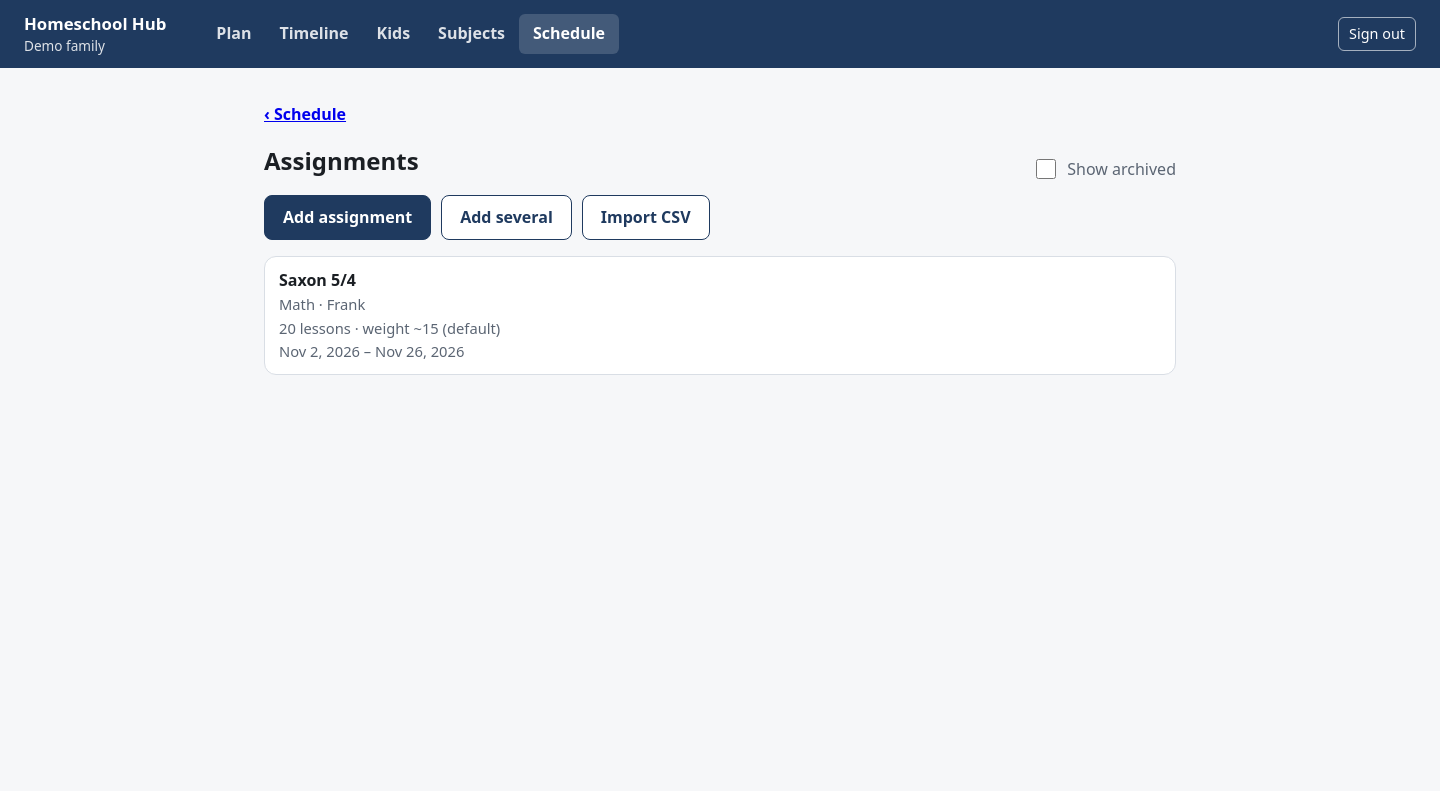
Test: Add several assignments (S3a-04) › starts with 3 empty rows and only the essentials
The image size is (1440, 791).
Expected: the list named "Assignments" is shown, [264,256,1176,375]
Click the button "Add several".
click(506, 217)  # box [441,195,572,240]
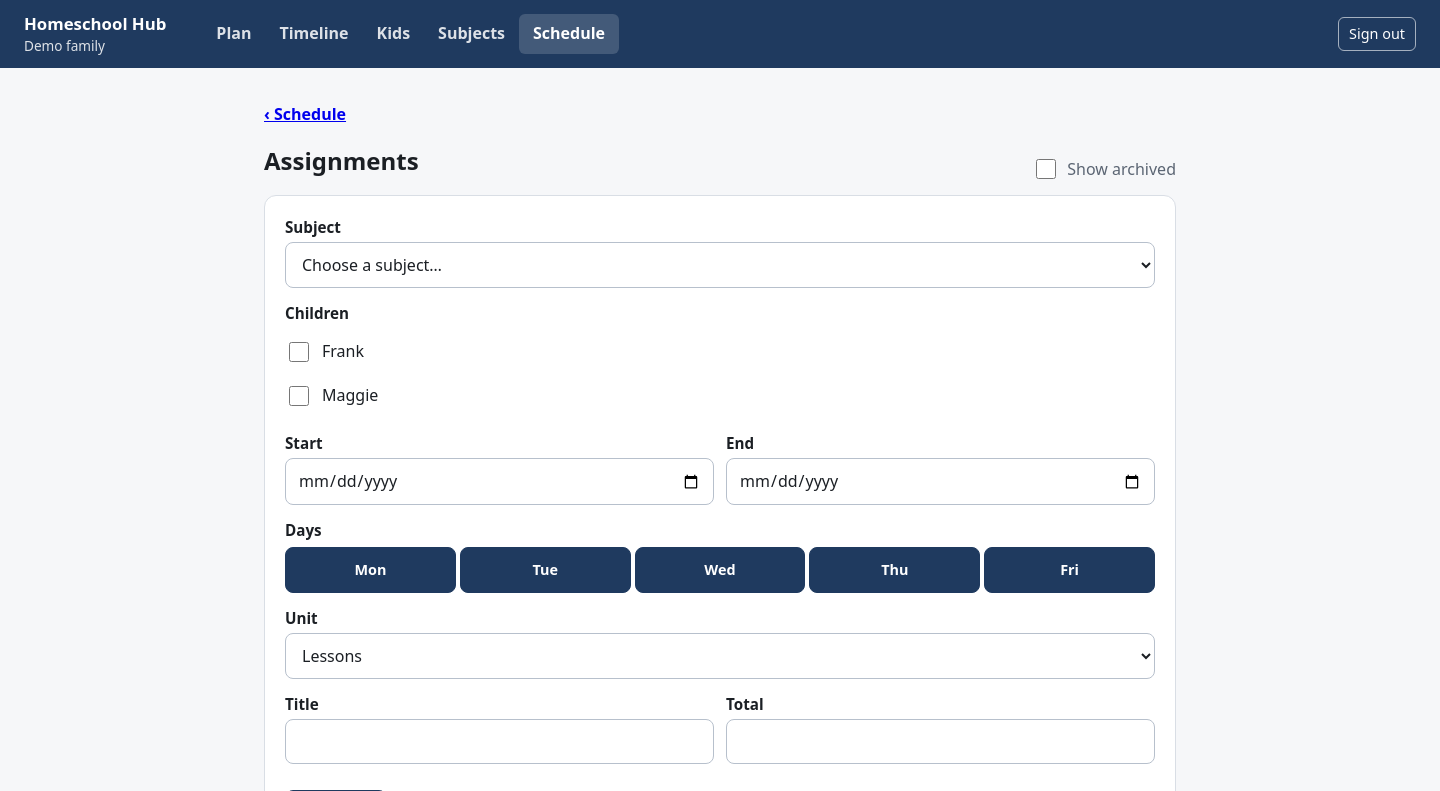
Expected: the field labelled "Weight" is not shown
Result: the number of elements "Title Total Remove" is 3
Result: the button "Add several" is gone
